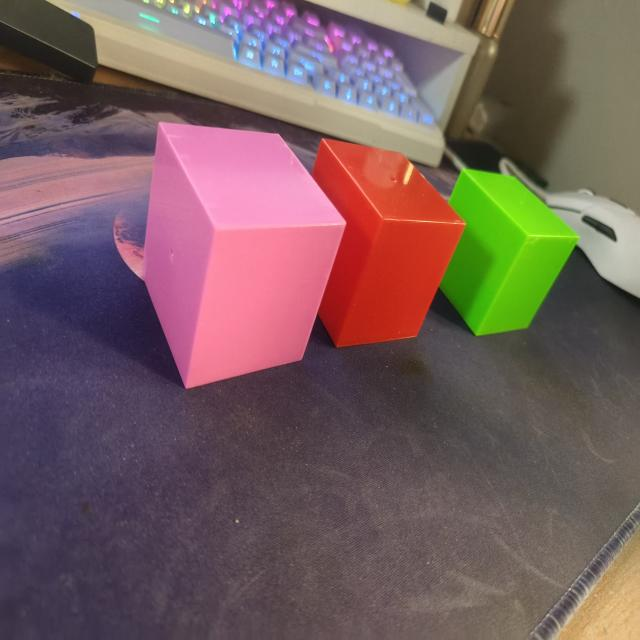green: (455, 157, 580, 341)
pink: (128, 116, 348, 391)
red: (316, 134, 466, 346)
